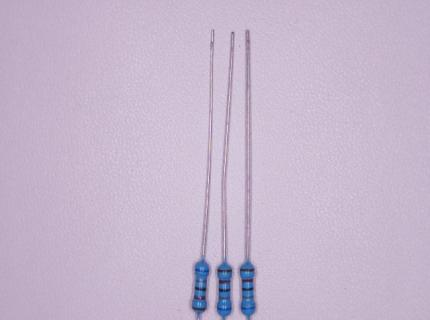Black band: (195, 286, 207, 291), (219, 288, 231, 292), (242, 287, 254, 291)
Blue band: (217, 307, 232, 311), (195, 268, 209, 272), (241, 306, 255, 310)
Brown band: (192, 306, 207, 311), (217, 269, 232, 273), (240, 268, 255, 272)
Grey band: (242, 295, 254, 299), (195, 279, 207, 283), (219, 296, 230, 300)
Red band: (193, 294, 206, 300), (219, 280, 231, 284), (242, 279, 253, 283)
